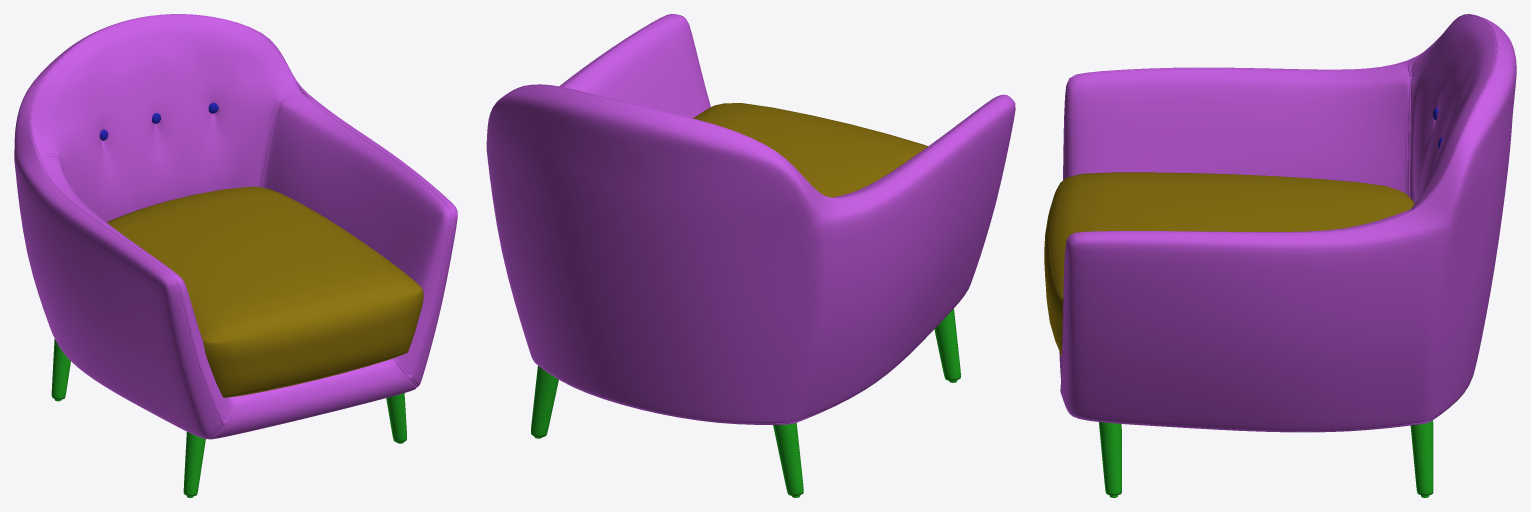
Rendered from armchair.obj.
3 views of the same model, side by side, from view 1: azimuth 30°, elevation 25°; view 2: azimuth 150°, elevation 25°; view 3: azimuth 270°, elevation 25° (orthographic). The views are drawn at different scales.
Visible parts, largest first — view 1: Box001, Box003, Cone001; view 2: Box001, Box003, Cone001; view 3: Box001, Box003, Cone001.
Boxes of the visible parts, x1,y1,x2,y2 form: Box001: (14,14,457,439); Box003: (107,186,423,397); Cone001: (51,339,406,497); Box001: (486,14,1015,424); Box003: (693,103,927,197); Cone001: (531,308,960,497); Box001: (1059,14,1516,432); Box003: (1044,172,1414,356); Cone001: (1099,420,1433,497).
Size of the model in its own units: 82.38 by 84.04 by 92.65.
